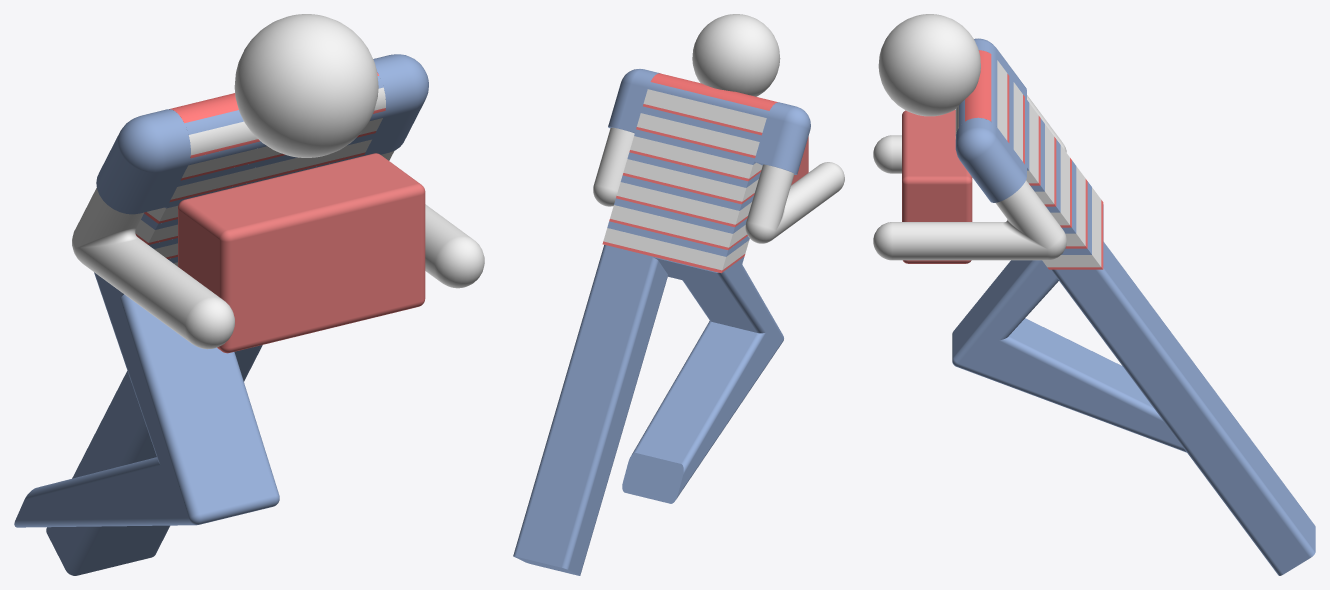
3 views of the same model, side by side, from view 1: azimuth 30°, elevation 25°; view 2: azimuth 150°, elevation 25°; view 3: azimuth 270°, elevation 25° (orthographic). The views are drawn at different scales.
Visible parts, largest first — view 1: 025_sagawa; view 2: 025_sagawa; view 3: 025_sagawa.
Boxes of the visible parts, bbox=[...] form: 025_sagawa: bbox=[14, 14, 484, 575]; 025_sagawa: bbox=[513, 14, 844, 575]; 025_sagawa: bbox=[873, 14, 1315, 575].
Size of the model in its own units: 0.078 by 0.1808 by 0.138.
